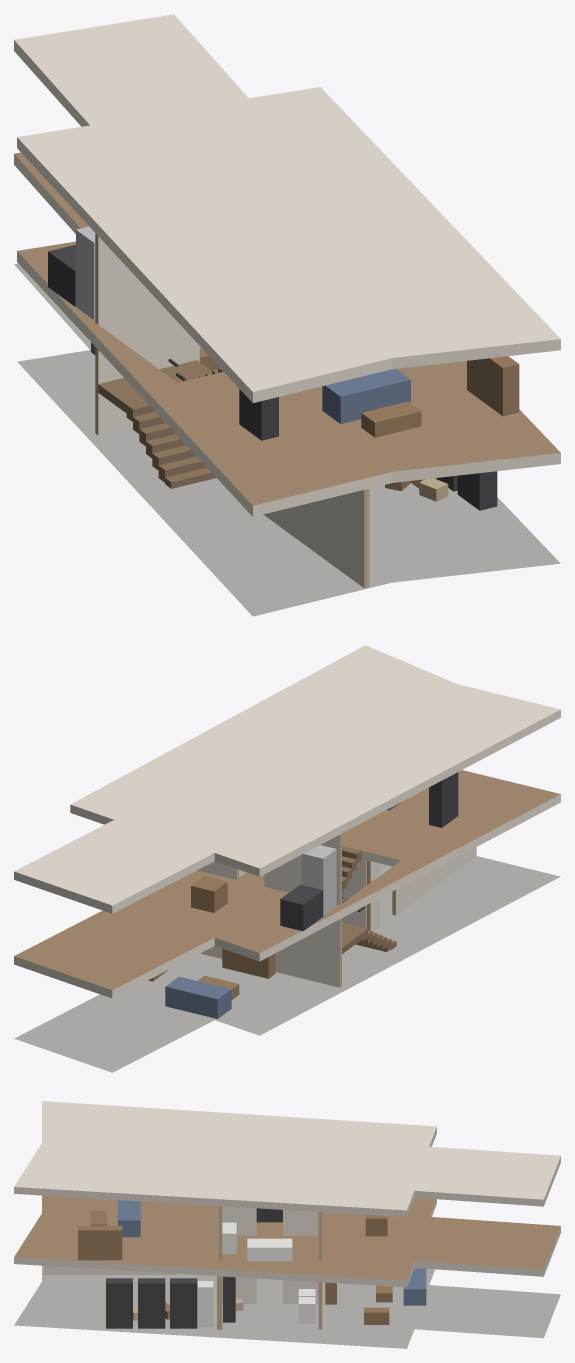
File: interior.glb
3 renders of one model, top to bottom at view 1: azimuth 30°, elevation 25°; view 2: azimuth 150°, elevation 25°; view 3: azimuth 270°, elevation 25°, orthographic. The views are drawn at different scales.
Visible parts, largest first — view 1: slabs, partitions, coarse-s1, stair, coarse-s0; view 2: slabs, partitions, coarse-s1, coarse-s0, stair; view 3: slabs, coarse-s0, coarse-s1, partitions, stair.
Boxes of the visible parts, x1,y1,x2,y2 form: slabs: (14, 14, 560, 616); partitions: (95, 233, 369, 588); coarse-s1: (48, 226, 519, 440); stair: (98, 359, 223, 488); coarse-s0: (91, 342, 497, 510); slabs: (14, 645, 560, 1072); partitions: (197, 833, 476, 987); coarse-s1: (191, 772, 458, 931); coarse-s0: (148, 948, 275, 1018); stair: (342, 846, 396, 953); slabs: (14, 1101, 560, 1348); coarse-s0: (106, 1268, 426, 1328); coarse-s1: (78, 1200, 387, 1260); partitions: (43, 1206, 322, 1329); stair: (256, 1208, 282, 1222).
Bounding box in the file's own units: 8.86 × 5.25 × 18.72.
